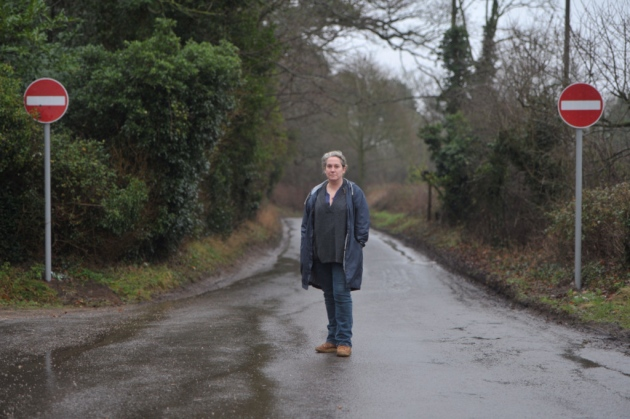No_entry: (557, 82, 605, 129), (23, 78, 69, 124)
